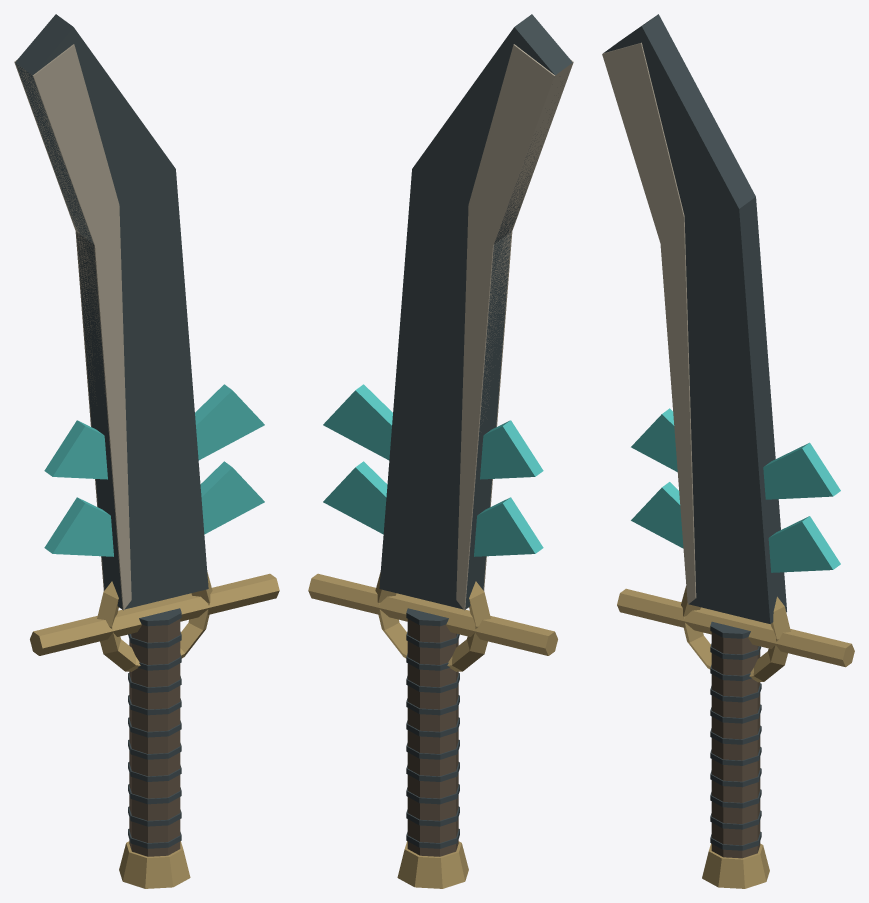
The model's file is Arsenal_WindmillSweep.fbx.
3 views of the same model, side by side, from view 1: azimuth 30°, elevation 25°; view 2: azimuth 150°, elevation 25°; view 3: azimuth 330°, elevation 25° (orthographic). The views are drawn at different scales.
Parts seen in each view (by area): view 1: Arsenal_WindmillSweep; view 2: Arsenal_WindmillSweep; view 3: Arsenal_WindmillSweep.
Part boxes in pixels (x1,y1,x2,y2): Arsenal_WindmillSweep: (14, 14, 279, 888); Arsenal_WindmillSweep: (308, 14, 573, 888); Arsenal_WindmillSweep: (602, 14, 854, 888).
Size of the model in its own units: 0.61 by 2.04 by 0.1568.
